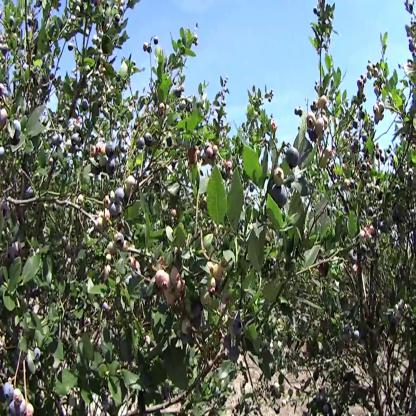intermediate: (170, 268, 182, 296), (157, 270, 171, 289), (209, 141, 219, 163)
mature: (272, 187, 290, 209), (112, 192, 124, 218), (136, 135, 154, 152), (288, 146, 300, 170), (107, 137, 117, 159), (4, 382, 15, 402), (82, 97, 90, 115)
young: (208, 260, 219, 294), (374, 103, 386, 124), (93, 28, 103, 50), (275, 167, 286, 186), (127, 174, 137, 194)
